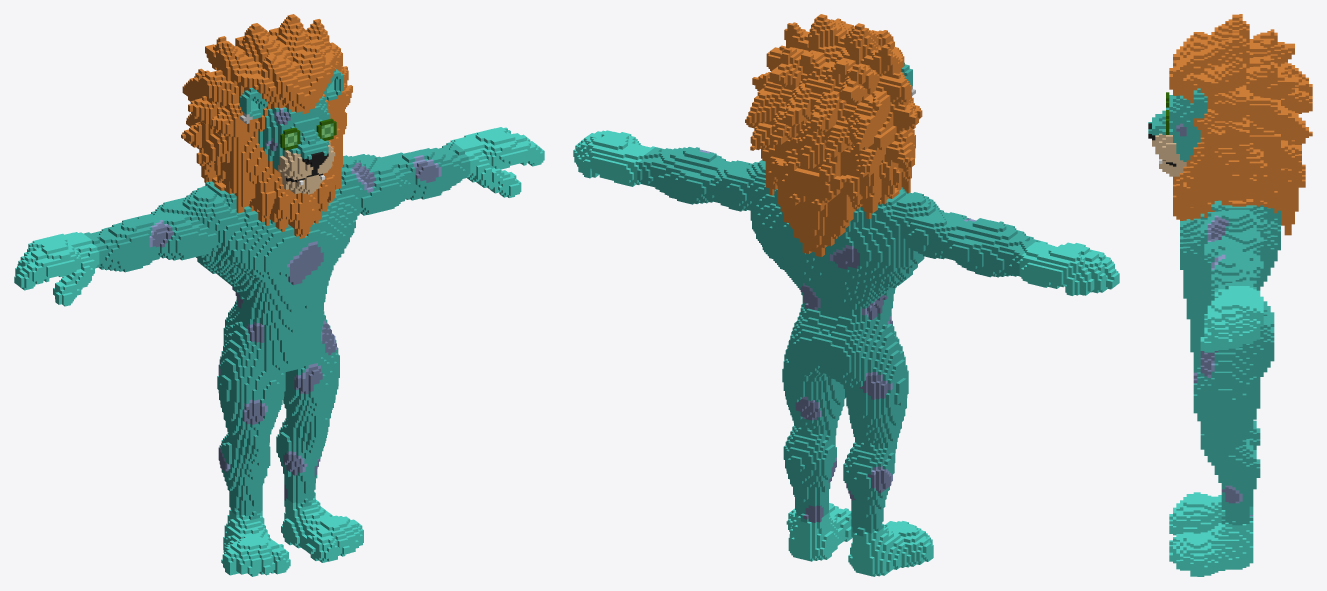
The model's file is 914-_eFdWhs0.glb.
The picture shows the model from 3 angles, left to right: view 1: azimuth 30°, elevation 25°; view 2: azimuth 150°, elevation 25°; view 3: azimuth 270°, elevation 25°; orthographic projection. The views are drawn at different scales.
Visible parts, largest first — view 1: standard.001; view 2: standard.001; view 3: standard.001.
Boxes of the visible parts, x1,y1,x2,y2 form: standard.001: (14,14,544,576); standard.001: (573,14,1119,576); standard.001: (1148,14,1312,576).
Size of the model in its own units: 17.2 by 16.5 by 4.7.
Materials: 5 (5 with a texture image).
